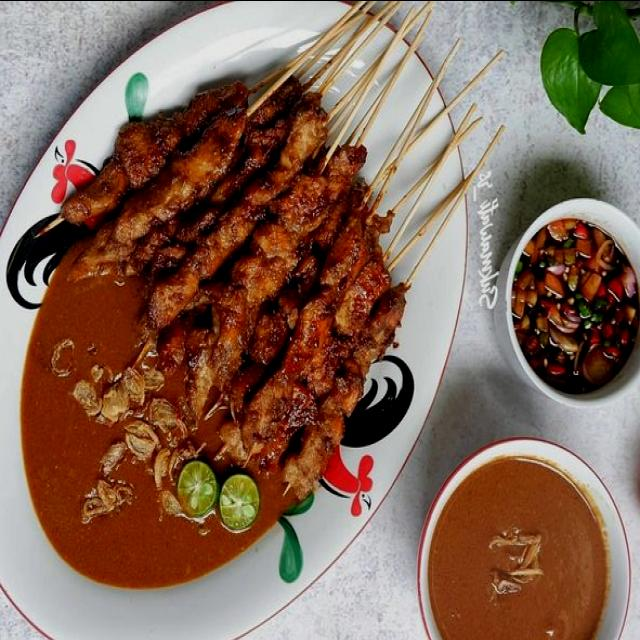sate: (11, 0, 497, 590)
